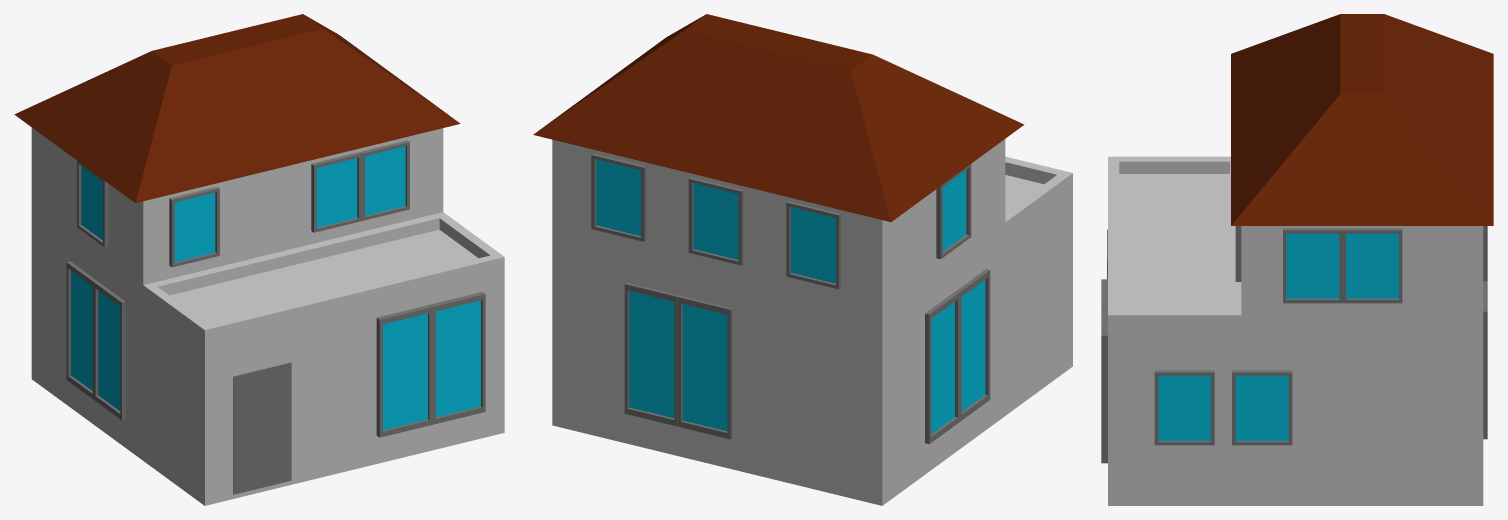
Rendered from houce.fbx.
3 renders of one model, left to right at view 1: azimuth 30°, elevation 25°; view 2: azimuth 150°, elevation 25°; view 3: azimuth 270°, elevation 25°, orthographic. The views are drawn at different scales.
Visible parts, largest first — view 1: Cube, 立方体.017, 立方体.008, 立方体.007, 立方体.010, 立方体, 立方体.005, 立方体.011, 立方体.001, 立方体.009; view 2: Cube, 立方体.015, 立方体.016, 立方体.011, 立方体.010, 立方体.013, 立方体.012, 立方体.014, 立方体.009; view 3: Cube, 立方体.004, 立方体.006, 立方体.002, 立方体.003, 立方体.007, 立方体.016.
Part boxes in pixels (<box>): Cube: <box>14,14,504,505</box>; 立方体.017: <box>233,362,291,494</box>; 立方体.008: <box>376,305,432,437</box>; 立方体.007: <box>430,292,485,424</box>; 立方体.010: <box>94,281,125,420</box>; 立方体: <box>311,152,361,232</box>; 立方体.005: <box>169,186,219,267</box>; 立方体.011: <box>66,261,97,399</box>; 立方体.001: <box>360,140,409,220</box>; 立方体.009: <box>77,161,108,247</box>; Cube: <box>533,14,1072,505</box>; 立方体.015: <box>677,295,732,439</box>; 立方体.016: <box>624,282,679,426</box>; 立方体.011: <box>925,291,959,444</box>; 立方体.010: <box>956,269,990,421</box>; 立方体.013: <box>688,177,743,265</box>; 立方体.012: <box>591,153,646,241</box>; 立方体.014: <box>786,201,840,289</box>; 立方体.009: <box>936,164,971,259</box>; Cube: <box>1108,14,1493,505</box>; 立方体.004: <box>1154,370,1214,445</box>; 立方体.006: <box>1232,370,1292,445</box>; 立方体.002: <box>1342,228,1402,303</box>; 立方体.003: <box>1283,228,1342,303</box>; 立方体.007: <box>1101,307,1107,463</box>; 立方体.016: <box>1483,286,1487,439</box>.
Bounding box in the file's own units: 7.35 × 7.42 × 7.09.
